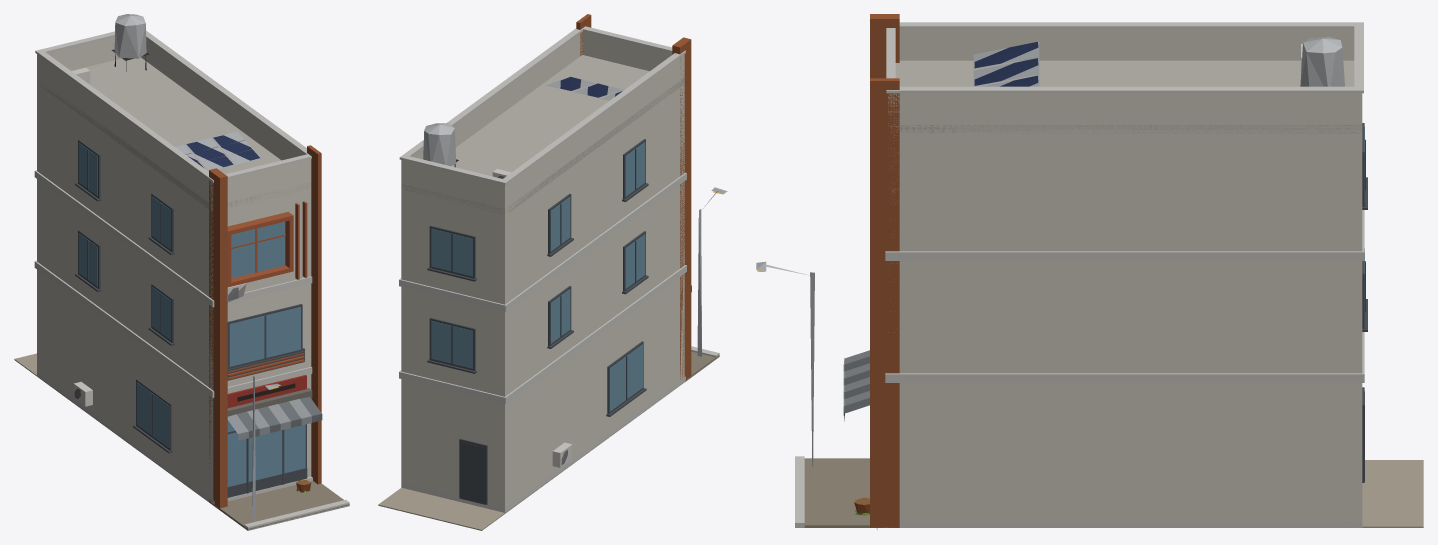
File: bay1_left.glb
3 views of the same model, side by side, from view 1: azimuth 30°, elevation 25°; view 2: azimuth 150°, elevation 25°; view 3: azimuth 270°, elevation 25° (orthographic). The views are drawn at different scales.
Visible parts, largest first — view 1: body; view 2: body; view 3: body.
Boxes of the visible parts, x1,y1,x2,y2 form: body: [14, 14, 349, 530]; body: [378, 14, 727, 530]; body: [756, 14, 1423, 529].
Size of the model in its own units: 4.42 by 13.6 by 16.88.
